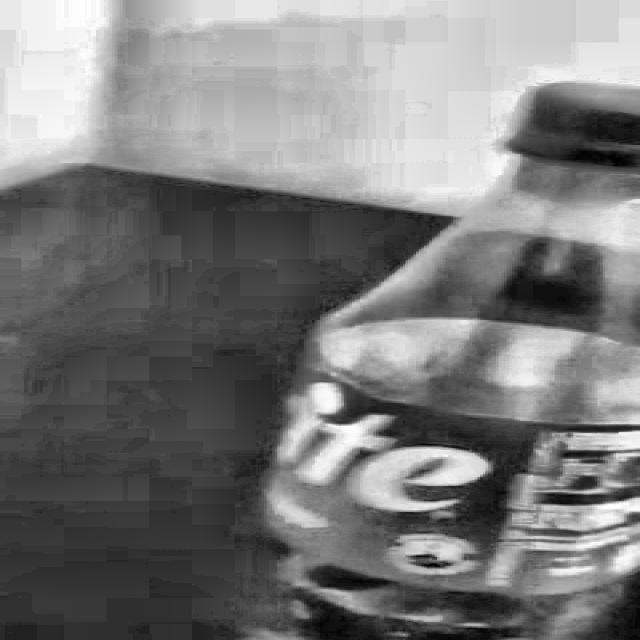bottle: (249, 83, 640, 640)
